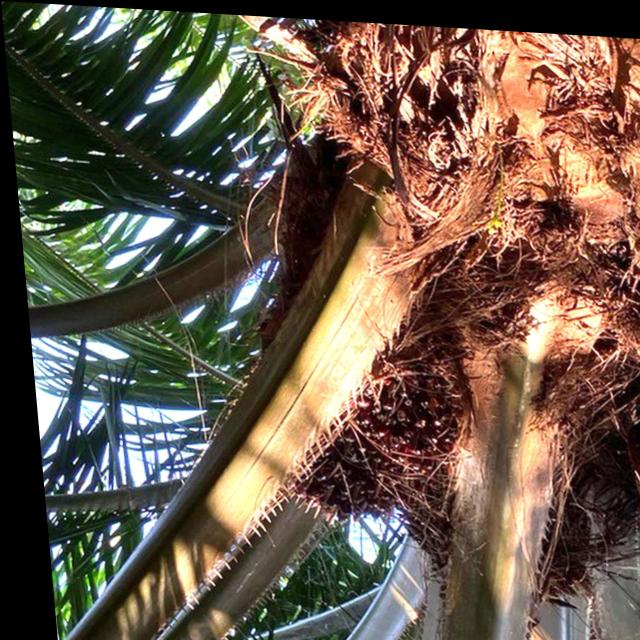ripe: (311, 296, 464, 528)
